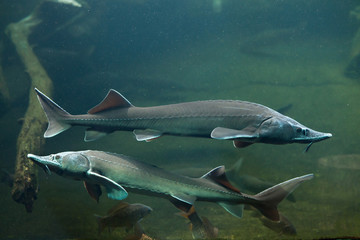Sturgeon: (22, 68, 344, 152), (23, 154, 323, 224)
